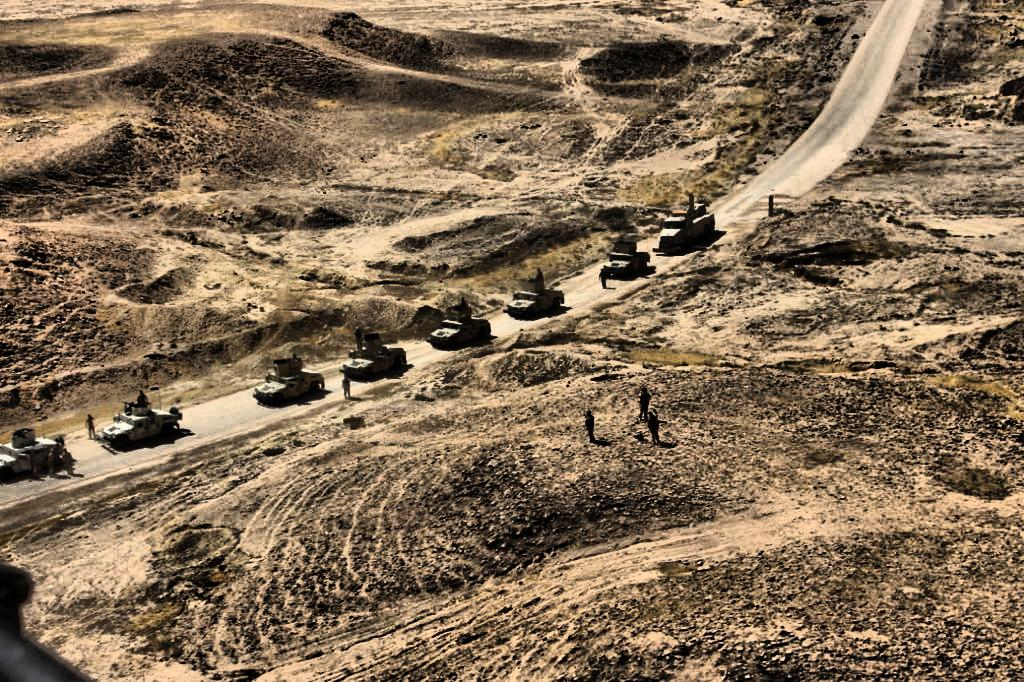military-vehicle: (98, 401, 182, 450), (252, 357, 327, 407), (0, 429, 63, 482), (341, 328, 404, 381), (428, 299, 490, 350), (507, 270, 566, 320), (603, 241, 649, 278)
